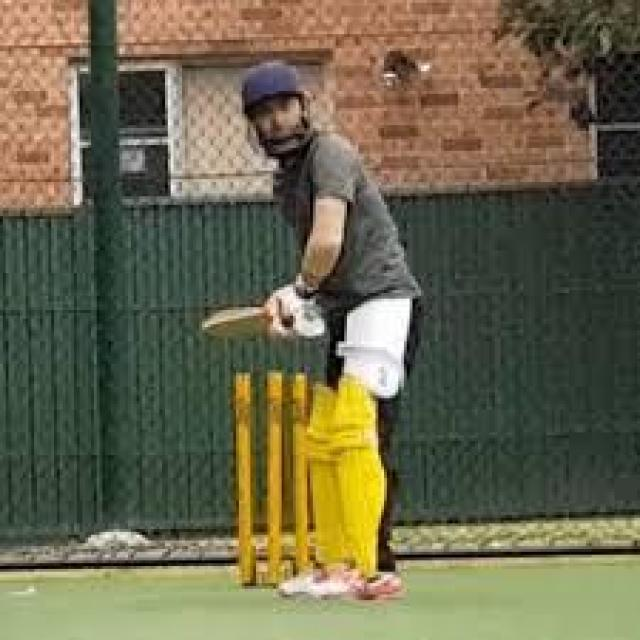bat: (197, 308, 276, 344)
